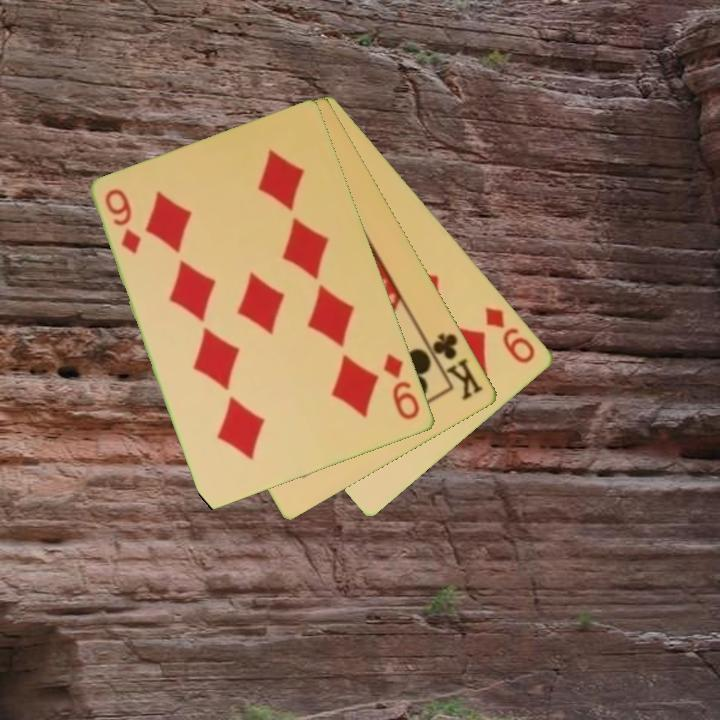9d: (482, 303, 539, 367), (380, 350, 424, 423), (102, 185, 145, 257)
Kc: (422, 329, 487, 403)
